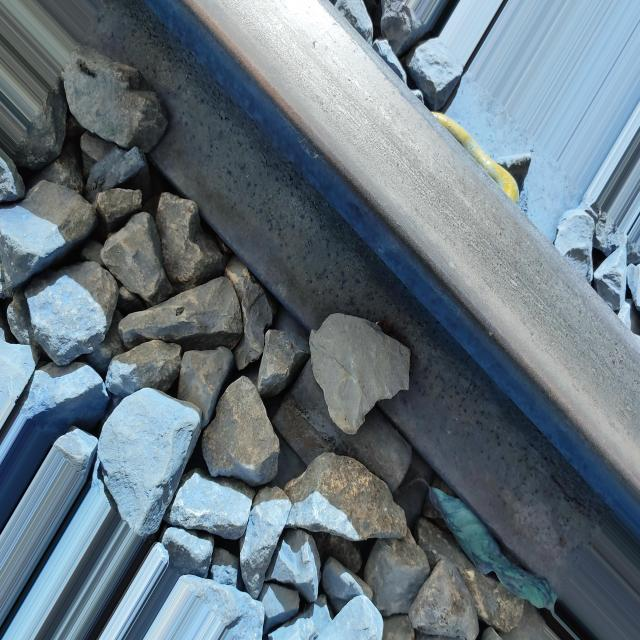Good Fasteners: (432, 112, 519, 202)
Missing Fastener: (270, 333, 431, 501)
